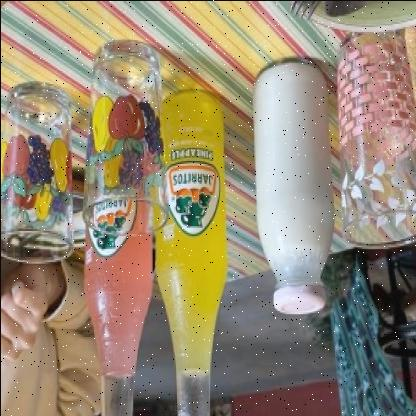Others: (151, 88, 227, 416), (252, 57, 334, 313), (338, 26, 416, 248), (82, 38, 166, 234), (86, 192, 150, 416), (1, 81, 74, 263)
